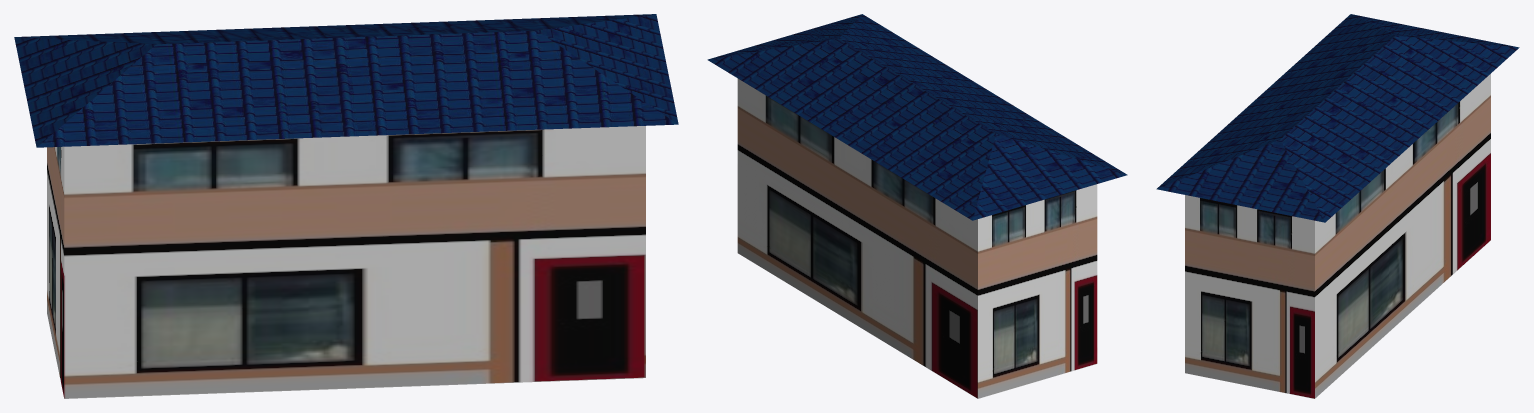
3 views of the same model, side by side, from view 1: azimuth 30°, elevation 25°; view 2: azimuth 150°, elevation 25°; view 3: azimuth 270°, elevation 25° (orthographic). The views are drawn at different scales.
Parts seen in each view (by area): view 1: CityEngineMaterial_5_m, CityEngineMaterial_6_m; view 2: CityEngineMaterial_5_m, CityEngineMaterial_6_m; view 3: CityEngineMaterial_5_m, CityEngineMaterial_6_m.
Boxes of the visible parts, <box> form: CityEngineMaterial_5_m: <box>47,126,645,398</box>; CityEngineMaterial_6_m: <box>14,14,678,147</box>; CityEngineMaterial_5_m: <box>737,78,1097,398</box>; CityEngineMaterial_6_m: <box>707,14,1127,220</box>; CityEngineMaterial_5_m: <box>1185,74,1490,398</box>; CityEngineMaterial_6_m: <box>1156,14,1519,222</box>.
Bounding box in the file's own units: 21.5 × 10.53 × 15.83.
